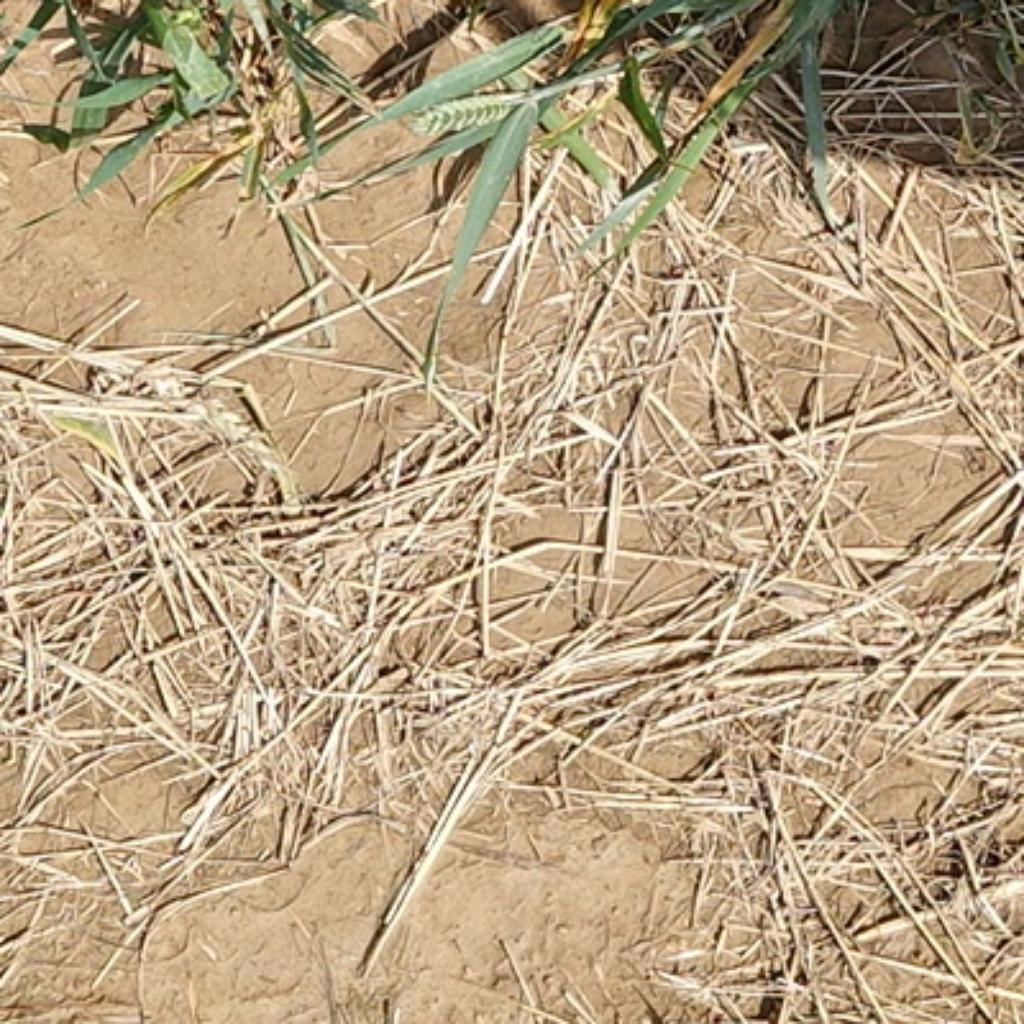0-0: (410, 86, 520, 143)
